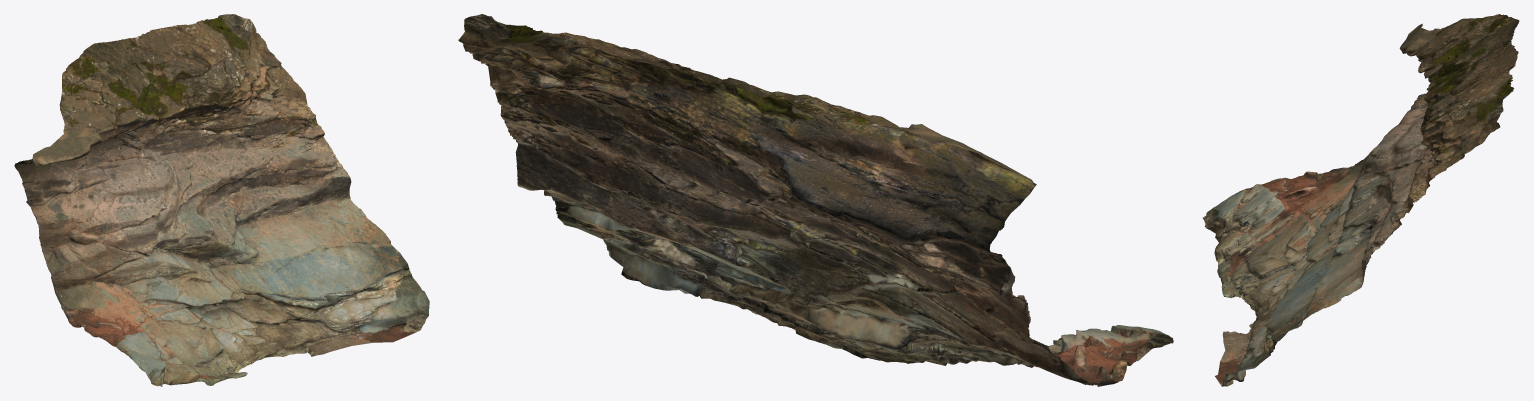
Rendered from rock_face_01.glb.
3 views of the same model, side by side, from view 1: azimuth 30°, elevation 25°; view 2: azimuth 150°, elevation 25°; view 3: azimuth 270°, elevation 25° (orthographic). The views are drawn at different scales.
Visible parts, largest first — view 1: rock_face_01; view 2: rock_face_01; view 3: rock_face_01.
Boxes of the visible parts, x1,y1,x2,y2 form: rock_face_01: (14, 14, 429, 386); rock_face_01: (458, 14, 1173, 386); rock_face_01: (1202, 14, 1519, 386).
Bounding box in the file's own units: 4.95 × 3.56 × 3.83.
Materials: 1 (1 with a texture image).
